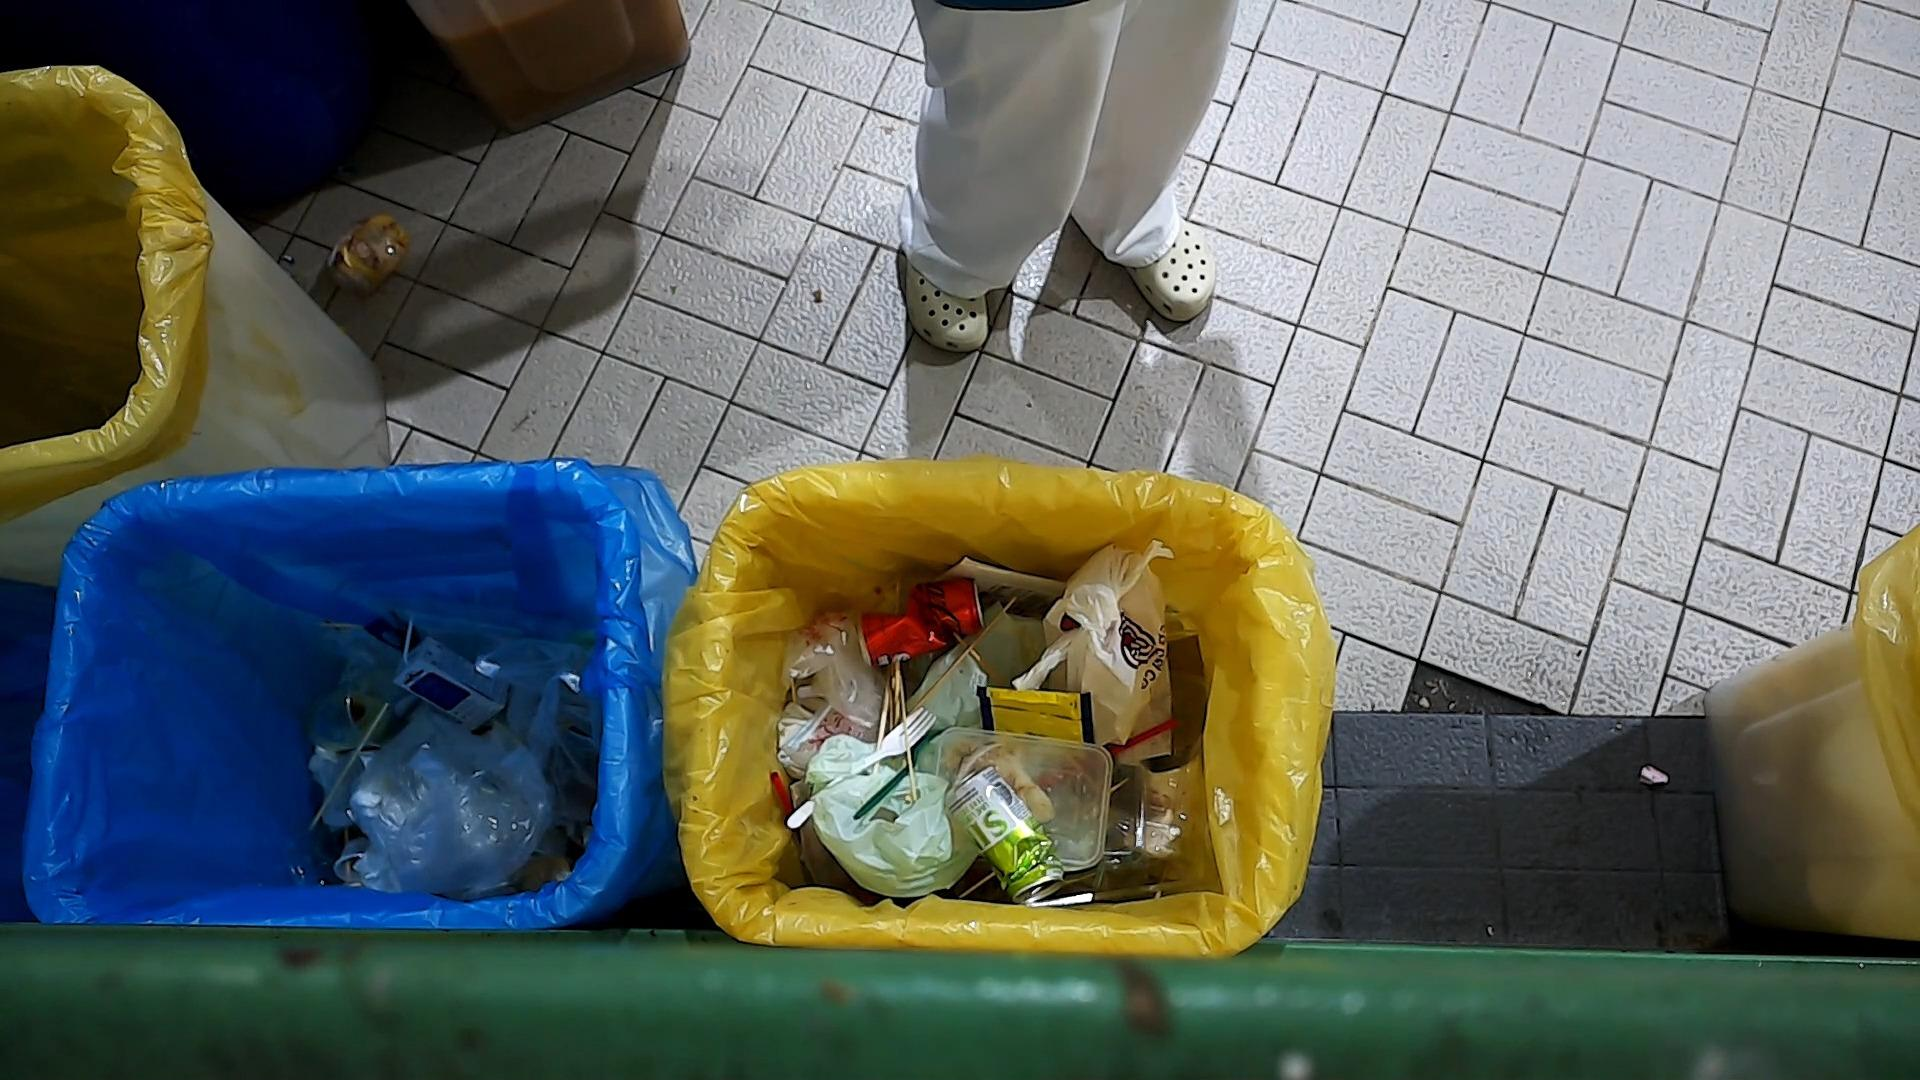can: (943, 762, 1069, 905), (853, 572, 989, 673)
dirty food container: (931, 721, 1116, 874)
filled plastic bag: (1007, 535, 1179, 761), (795, 731, 980, 902)
milk carton: (389, 608, 514, 736)
plastic bag: (344, 654, 564, 906), (775, 597, 885, 748)
plastic cup: (297, 655, 425, 756)
plastic cutlery: (782, 703, 944, 831), (849, 727, 949, 822)
snack packaging: (972, 683, 1097, 745)
sticks: (907, 593, 1018, 716), (307, 700, 390, 832), (898, 671, 919, 806)
straw: (1108, 715, 1182, 760)
